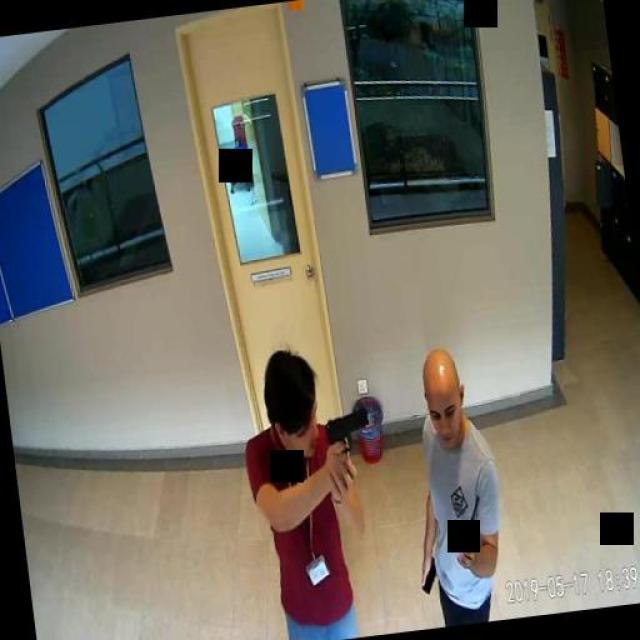gun: (322, 408, 373, 472)
